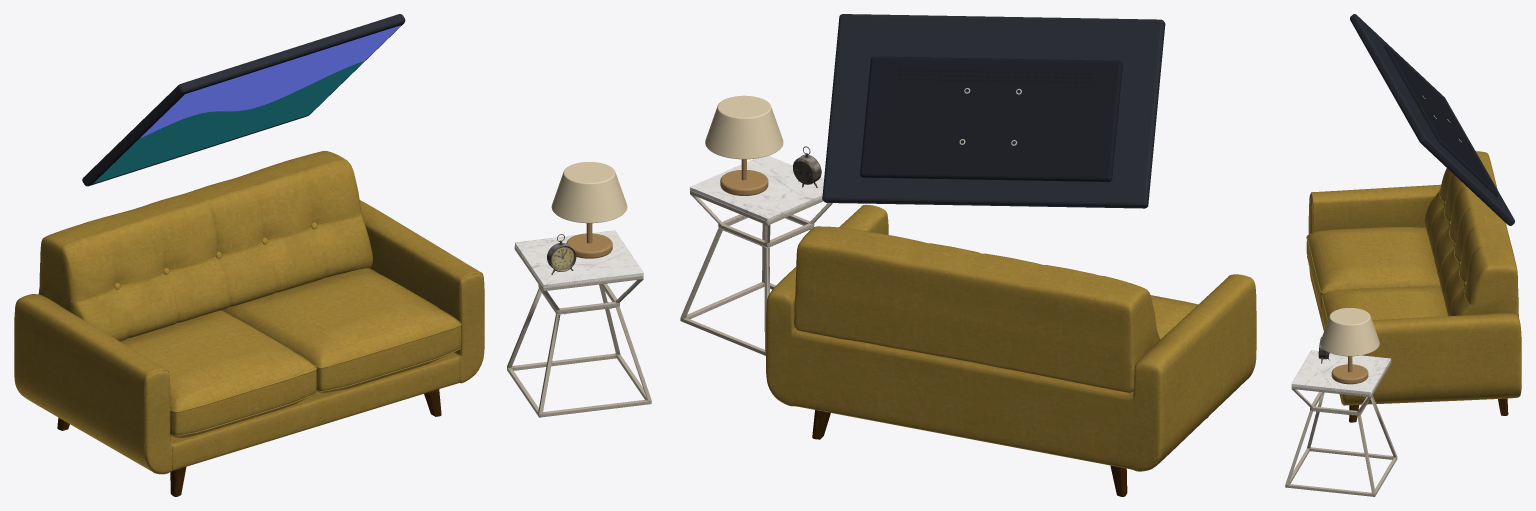
File: parlor.glb
3 views of the same model, side by side, from view 1: azimuth 30°, elevation 25°; view 2: azimuth 150°, elevation 25°; view 3: azimuth 270°, elevation 25° (orthographic). The views are drawn at different scales.
Parts seen in each view (by area): view 1: Sofa, Side-table, TV / active picture.001, TV / active picture, TV / graphite frame, Ivory lamp shade, TV / glass surround, Lamp foot, Clock; view 2: Sofa, TV / graphite frame, TV / rear enclosure, Side-table, Ivory lamp shade, TV / cooling louvres, Lamp foot, Clock; view 3: Sofa, Side-table, TV / graphite frame, TV / rear enclosure, Ivory lamp shade, Lamp foot.
Boxes of the visible parts, left/top/right/bottom form: Sofa: left=14, top=151, right=484, bottom=496; Side-table: left=507, top=230, right=651, bottom=417; TV / active picture.001: left=202, top=25, right=401, bottom=148; TV / active picture: left=93, top=59, right=292, bottom=183; TV / graphite frame: left=82, top=14, right=405, bottom=186; Ivory lamp shade: left=551, top=162, right=627, bottom=223; TV / glass surround: left=89, top=22, right=404, bottom=185; Lamp foot: left=566, top=233, right=612, bottom=258; Clock: left=547, top=234, right=576, bottom=274; Sofa: left=766, top=204, right=1256, bottom=496; TV / graphite frame: left=822, top=14, right=1165, bottom=208; TV / rear enclosure: left=860, top=56, right=1122, bottom=181; Side-table: left=680, top=156, right=832, bottom=355; Ivory lamp shade: left=705, top=95, right=783, bottom=159; TV / cooling louvres: left=896, top=69, right=1092, bottom=83; Lamp foot: left=720, top=170, right=768, bottom=195; Clock: left=793, top=146, right=821, bottom=187; Sofa: left=1306, top=151, right=1521, bottom=422; Side-table: left=1285, top=350, right=1397, bottom=496; TV / graphite frame: left=1350, top=14, right=1514, bottom=225; TV / rear enclosure: left=1384, top=45, right=1497, bottom=196; Ivory lamp shade: left=1320, top=308, right=1379, bottom=356; Lamp foot: left=1331, top=364, right=1368, bottom=384.
Size of the model in its own units: 9.58 by 6.7 by 4.64.
13 materials, 5 textured.
